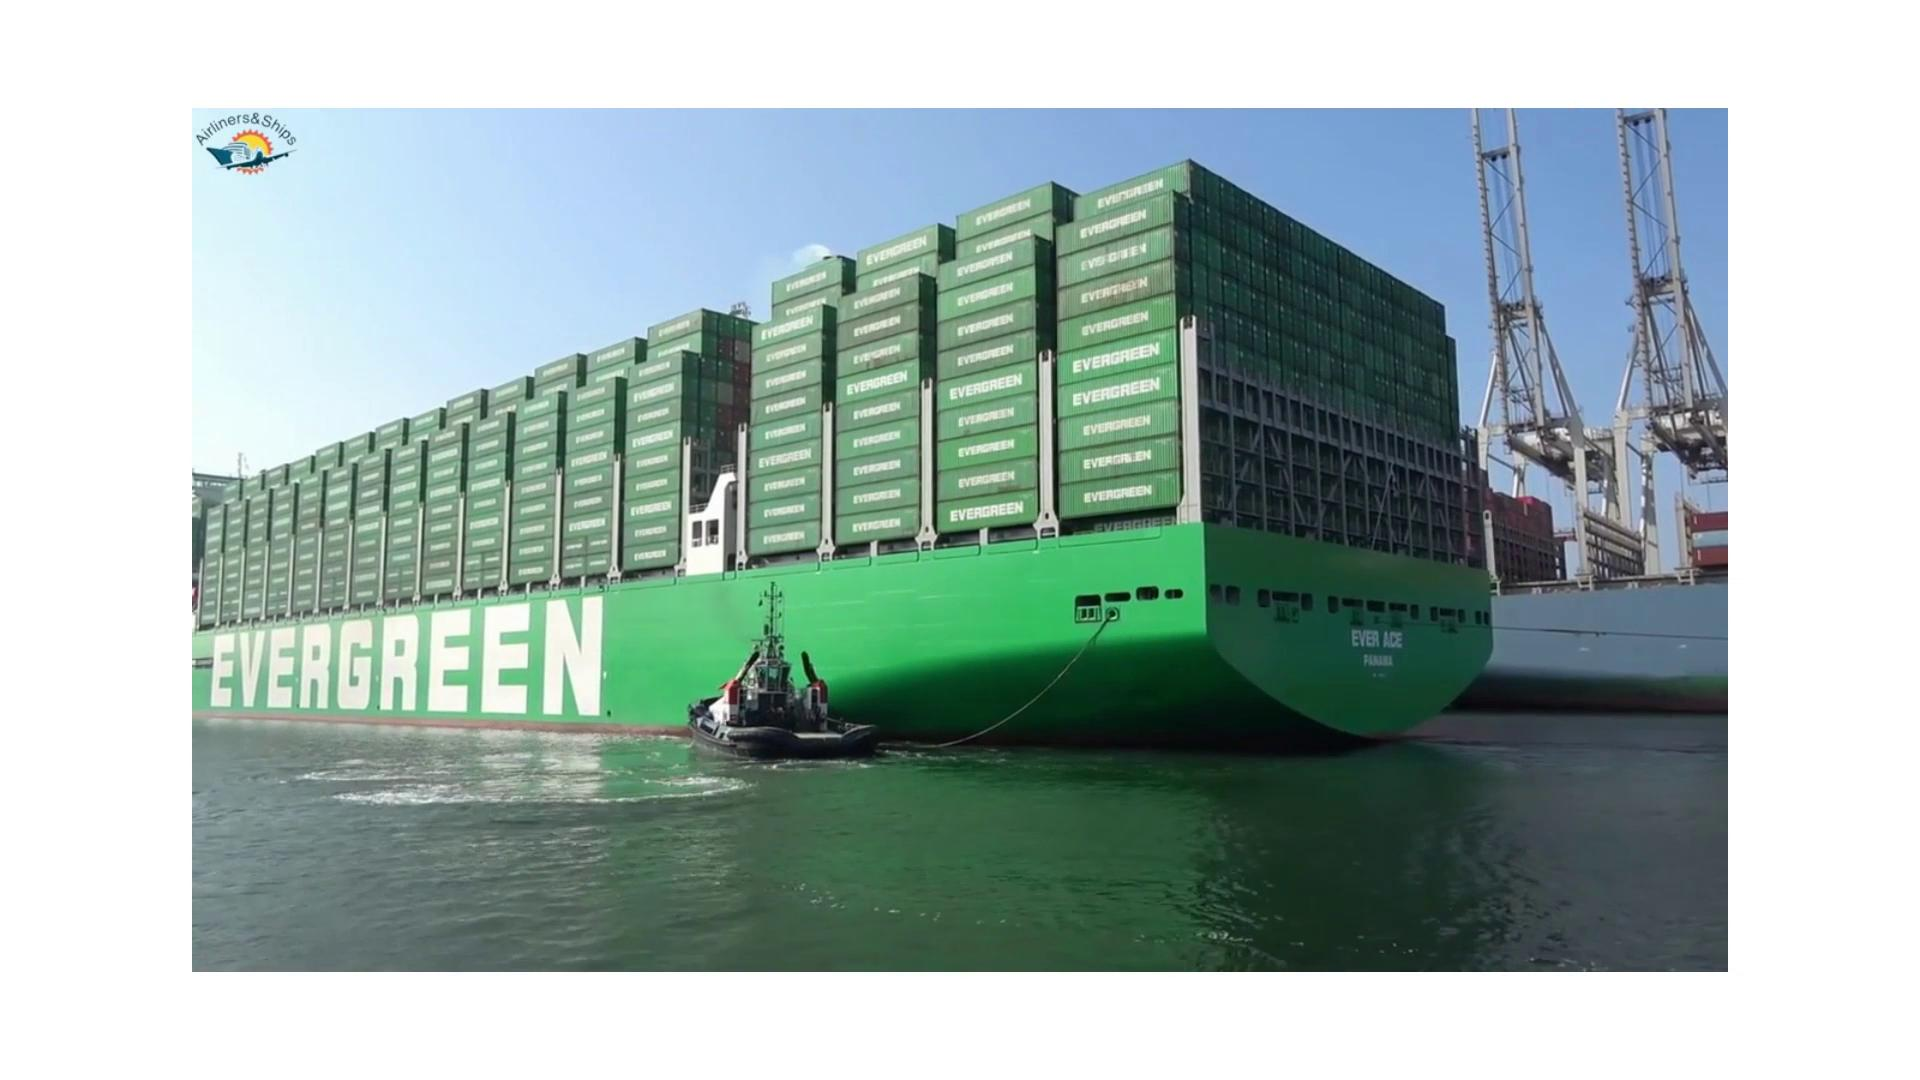OCR: (198, 579, 643, 766)
